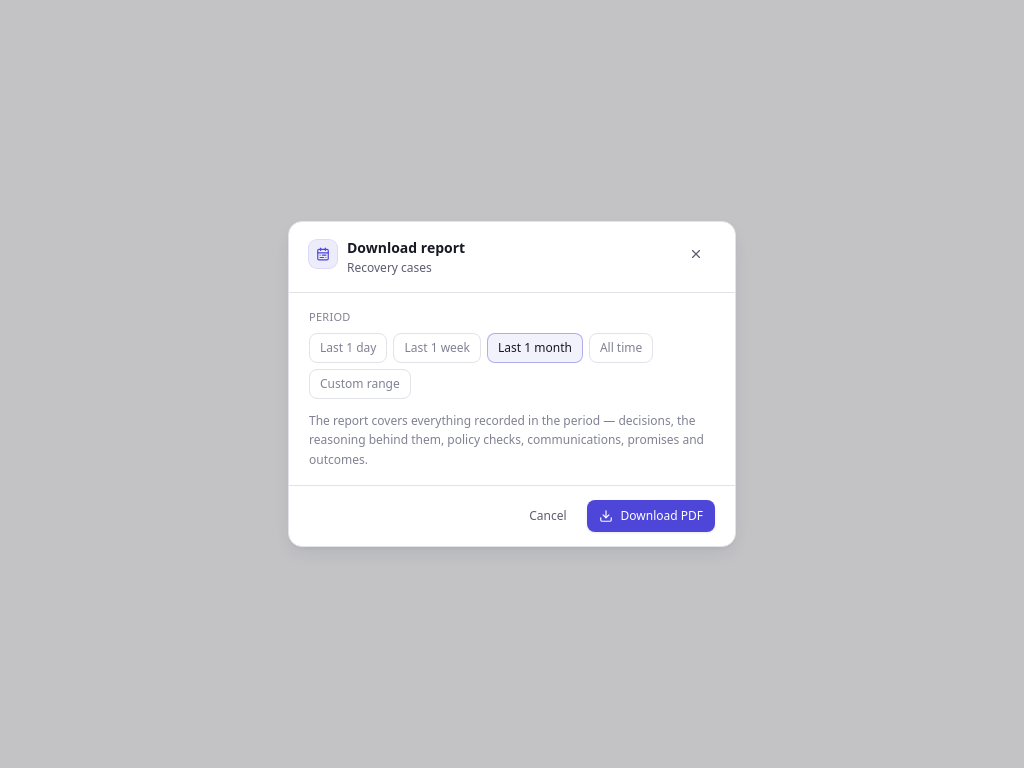
Test: choosing a period › refuses a backwards range rather than asking for it
Click the radio button labelled "Custom range".
click(360, 384)  # box [309,369,411,399]
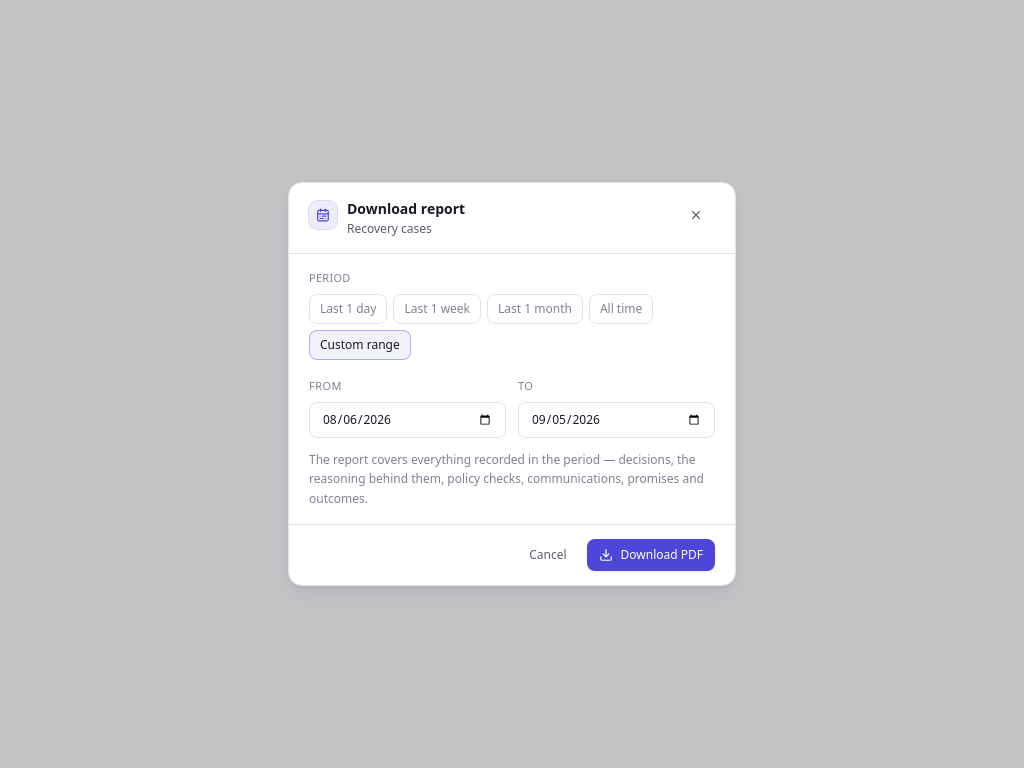
Type "2026-08-31" into the date field labelled "From".
click(408, 420); type("2026-08-31")  # box [309,402,506,438]
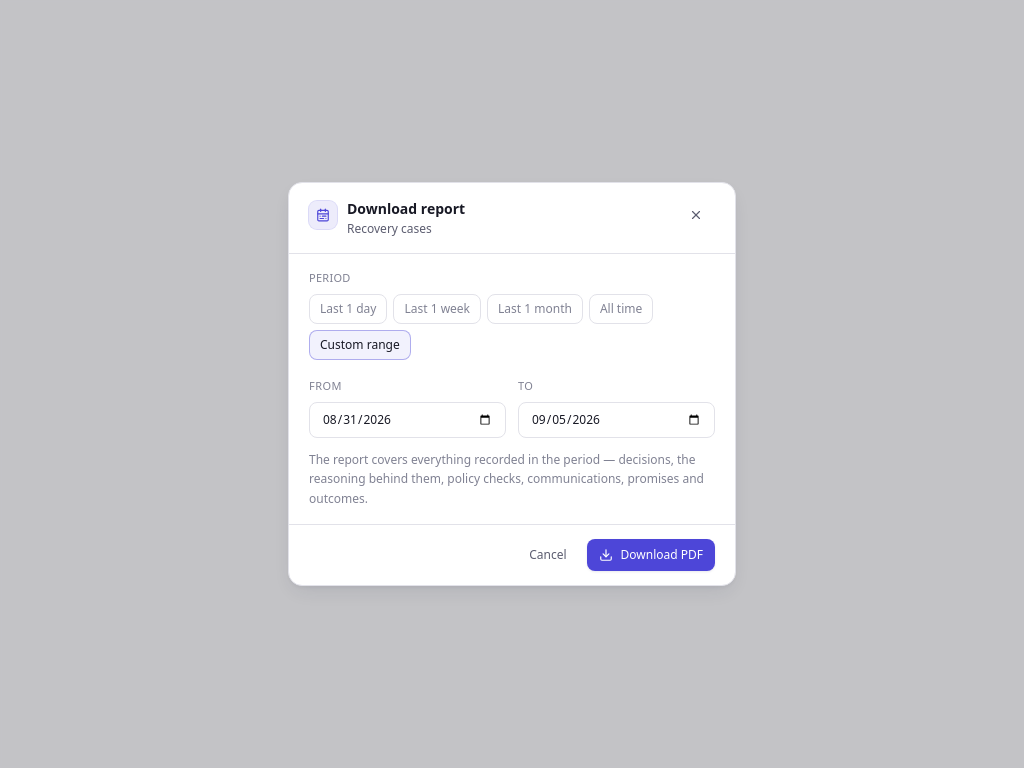
Type "2026-08-01" into the date field labelled "To".
click(616, 420); type("2026-08-01")  # box [518,402,715,438]
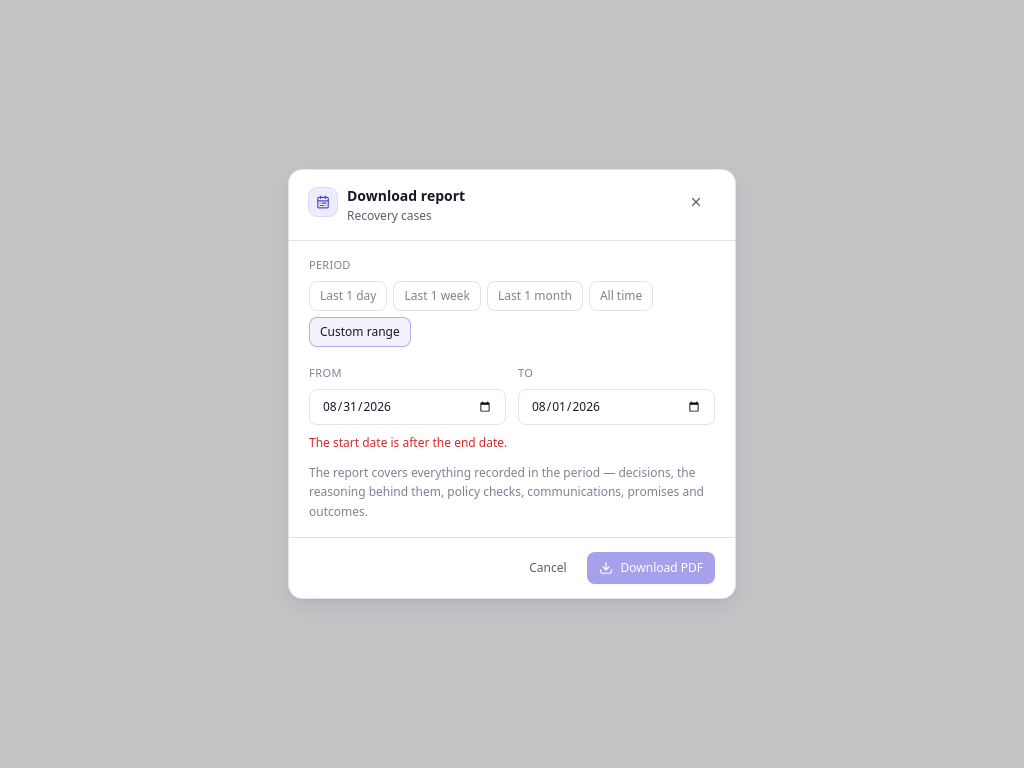
Check: the text "The start date is after the end date." is shown, box [309,434,507,451]
Check: the button "Download PDF" is disabled, box [586,552,715,584]
